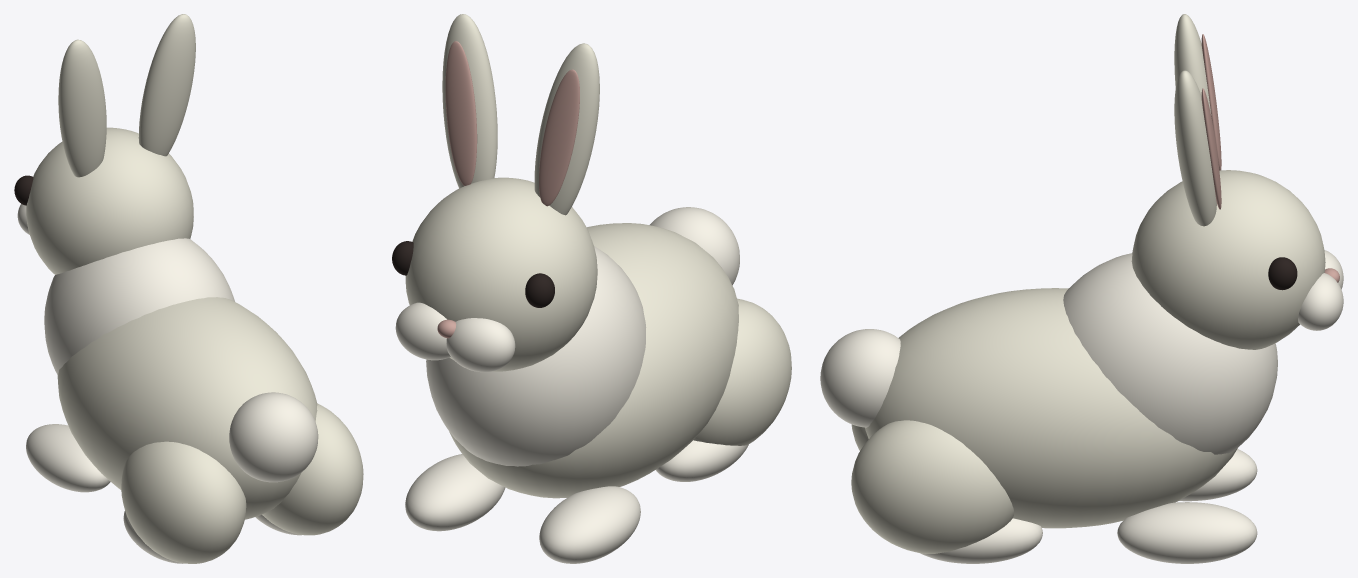
The model's file is rabbit-hop-v5.glb.
3 renders of one model, left to right at view 1: azimuth 30°, elevation 25°; view 2: azimuth 150°, elevation 25°; view 3: azimuth 270°, elevation 25°, orthographic. The views are drawn at different scales.
Visible parts, largest first — view 1: RabbitTorso, RabbitSkull, RabbitChest, RabbitHaunch, RabbitHaunch.001, RoundTail, RabbitEar.001, RabbitEar, RabbitFoot, RabbitFoot.001; view 2: RabbitTorso, RabbitSkull, RabbitChest, RabbitHaunch, RabbitFoot, RabbitFoot.002, RabbitEar, RabbitEar.001, InnerEar, InnerEar.001, RabbitCheek, RoundTail (+4 smaller); view 3: RabbitTorso, RabbitSkull, RabbitChest, RabbitHaunch.001, RabbitFoot.002, RoundTail, RabbitEar.001, RabbitFoot.003, RabbitCheek.001, RabbitFoot, RabbitEar, InnerEar.001 (+2 smaller).
Part boxes in pixels (<box>): RabbitTorso: <box>57,297,317,519</box>; RabbitSkull: <box>26,127,193,274</box>; RabbitChest: <box>44,238,234,374</box>; RabbitHaunch: <box>121,441,246,563</box>; RabbitHaunch.001: <box>262,403,363,535</box>; RoundTail: <box>229,392,318,482</box>; RabbitEar.001: <box>138,14,195,156</box>; RabbitEar: <box>58,39,106,177</box>; RabbitFoot: <box>26,424,110,492</box>; RabbitFoot.001: <box>123,511,183,563</box>; RabbitTorso: <box>449,223,738,498</box>; RabbitSkull: <box>405,177,597,371</box>; RabbitChest: <box>426,246,646,466</box>; RabbitHaunch: <box>693,298,791,445</box>; RabbitFoot: <box>539,486,640,563</box>; RabbitFoot.002: <box>405,454,505,531</box>; RabbitEar: <box>534,43,599,215</box>; RabbitEar.001: <box>442,14,497,188</box>; InnerEar: <box>539,69,579,206</box>; InnerEar.001: <box>445,41,477,185</box>; RabbitCheek: <box>446,318,515,372</box>; RoundTail: <box>649,207,739,285</box>; RabbitTorso: <box>864,288,1237,528</box>; RabbitSkull: <box>1131,170,1325,349</box>; RabbitChest: <box>1063,253,1277,454</box>; RabbitHaunch.001: <box>851,420,1013,553</box>; RabbitFoot.002: <box>1117,502,1257,563</box>; RoundTail: <box>820,329,900,427</box>; RabbitEar.001: <box>1174,70,1216,226</box>; RabbitFoot.003: <box>920,518,1042,563</box>; RabbitCheek.001: <box>1298,273,1343,330</box>; RabbitFoot: <box>1179,449,1257,501</box>; RabbitEar: <box>1174,14,1211,115</box>; InnerEar.001: <box>1201,88,1221,209</box>.
Size of the model in its own units: 0.66 by 1.3 by 1.27.
